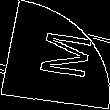M_W: (22, 27, 88, 83)
